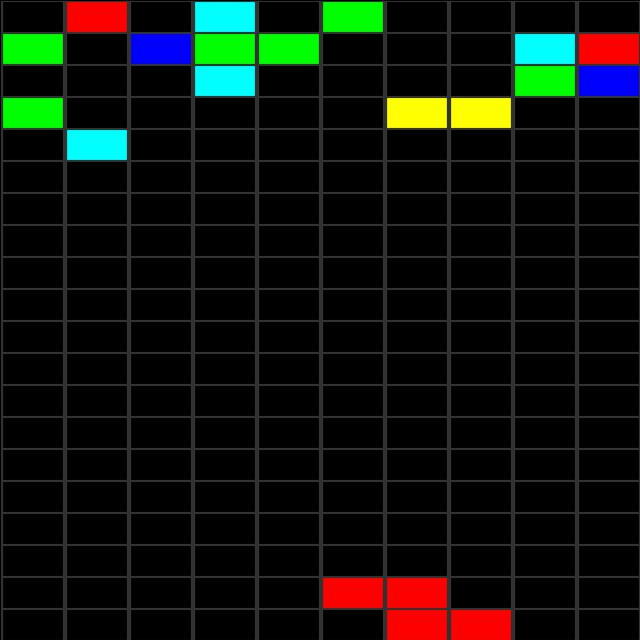Tetrimino_T: (320, 576, 510, 640)
